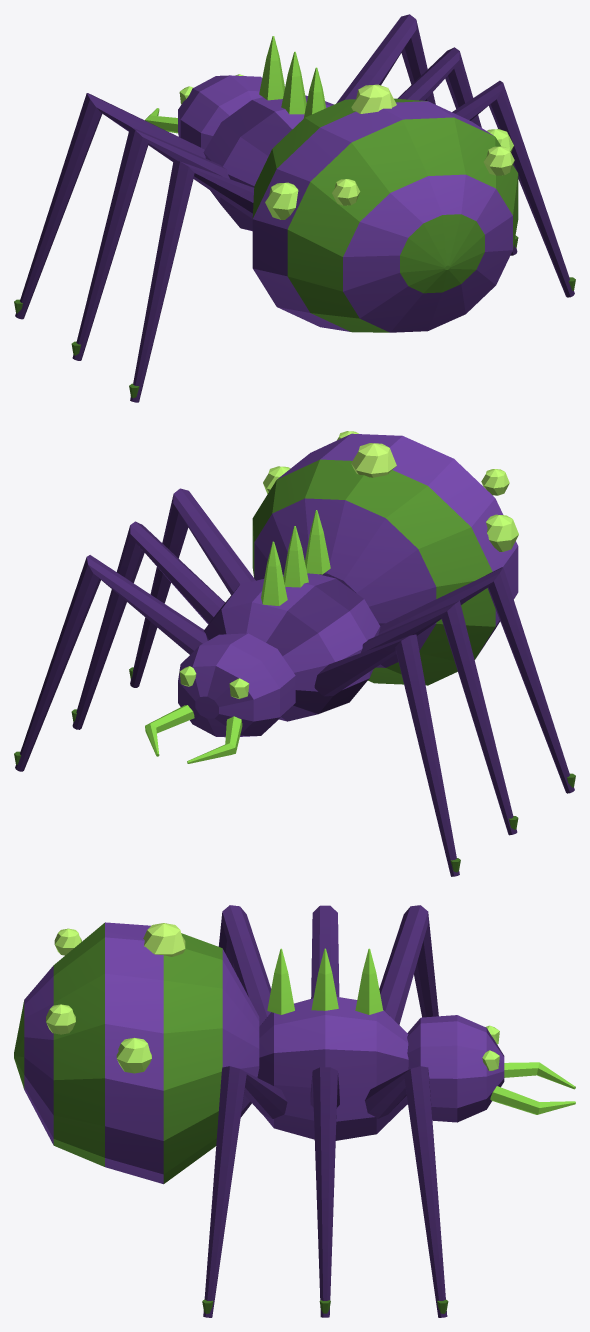
The model's file is SwarmQueen.fbx.
3 views of the same model, one above another, from view 1: azimuth 30°, elevation 25°; view 2: azimuth 150°, elevation 25°; view 3: azimuth 270°, elevation 25° (orthographic). The views are drawn at different scales.
Visible parts, largest first — view 1: Brood, Body, Leg_BL, Leg_FL, Leg_ML, Leg_BR, Head, BroodEggs, Leg_FR, Leg_MR; view 2: Brood, Body, Head, Leg_FR, Leg_FL, Leg_MR, Leg_BL, Leg_ML, Leg_BR, BroodEggs, Jaw, Eyes; view 3: Brood, Body, Head, Leg_BR, Leg_FR, Leg_MR, Leg_FL, BroodEggs, Leg_BL, Jaw, Leg_ML.
Boxes of the visible parts, box(x1,y1,x2,y2) form: Brood: box(252, 98, 518, 332); Body: box(203, 36, 333, 231); Leg_BL: box(129, 160, 254, 402); Leg_FL: box(14, 93, 205, 319); Leg_ML: box(71, 126, 229, 360); Leg_BR: box(452, 80, 575, 297); Head: box(178, 75, 262, 149); BroodEggs: box(265, 84, 514, 219); Leg_FR: box(336, 14, 435, 104); Leg_MR: box(397, 47, 518, 255); Brood: box(252, 433, 518, 685); Body: box(204, 510, 380, 721); Head: box(178, 633, 295, 737); Leg_FR: box(14, 555, 207, 771); Leg_FL: box(314, 634, 460, 876); Leg_MR: box(71, 521, 225, 729); Leg_BL: box(378, 567, 575, 793); Leg_ML: box(361, 600, 518, 835); Leg_BR: box(129, 488, 255, 687); BroodEggs: box(263, 431, 518, 551); Jaw: box(145, 705, 242, 763); Eyes: box(179, 666, 249, 698); Brood: box(14, 922, 259, 1184); Body: box(257, 948, 408, 1140); Head: box(407, 1015, 504, 1122); Leg_BR: box(202, 1066, 287, 1317); Leg_FR: box(365, 1066, 448, 1317); Leg_MR: box(310, 1067, 339, 1317); Leg_FL: box(379, 905, 438, 1024); BroodEggs: box(46, 923, 185, 1073); Leg_BL: box(218, 905, 271, 1026); Jaw: box(490, 1062, 575, 1114); Leg_ML: box(311, 905, 339, 998).
Bounding box in the file's own units: 3.57 × 2.15 × 3.83.
2 materials, 2 textured.
